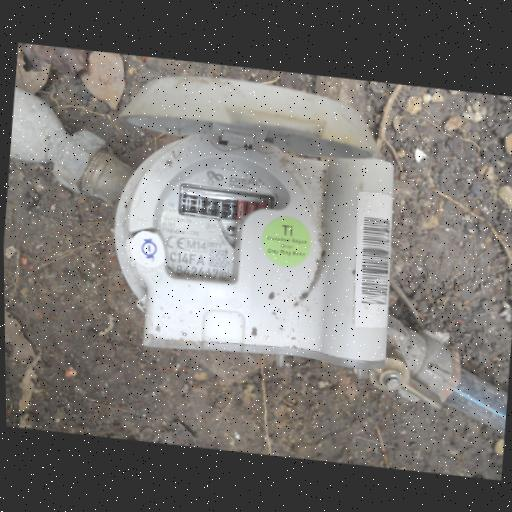0: (183, 194, 194, 214), (193, 195, 204, 215)
1: (215, 198, 226, 218)
2: (203, 197, 216, 217)
5: (224, 198, 237, 221)
7: (247, 200, 256, 215)
8: (236, 200, 247, 221)
border_water_meter_number: (179, 184, 273, 225)
